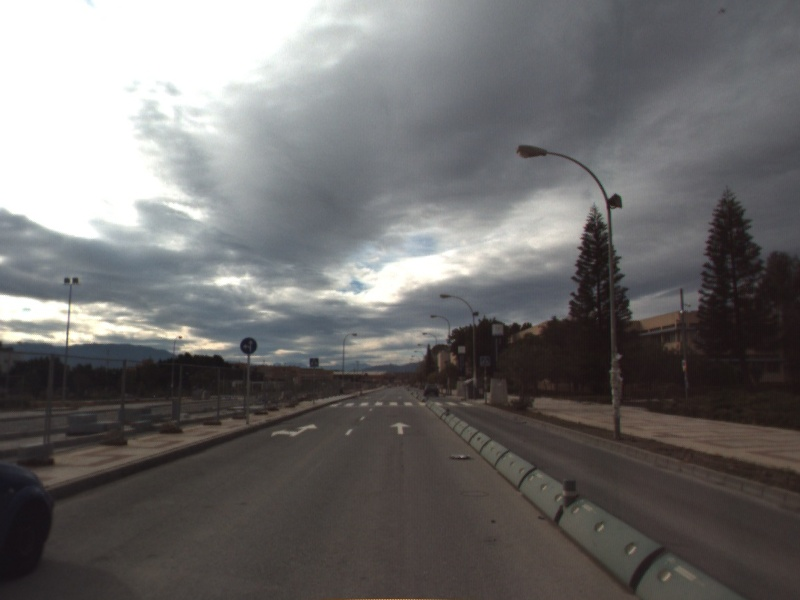STRAIGHT: (387, 420, 413, 436)
STRAIGHT_LEFT: (269, 421, 320, 439)
